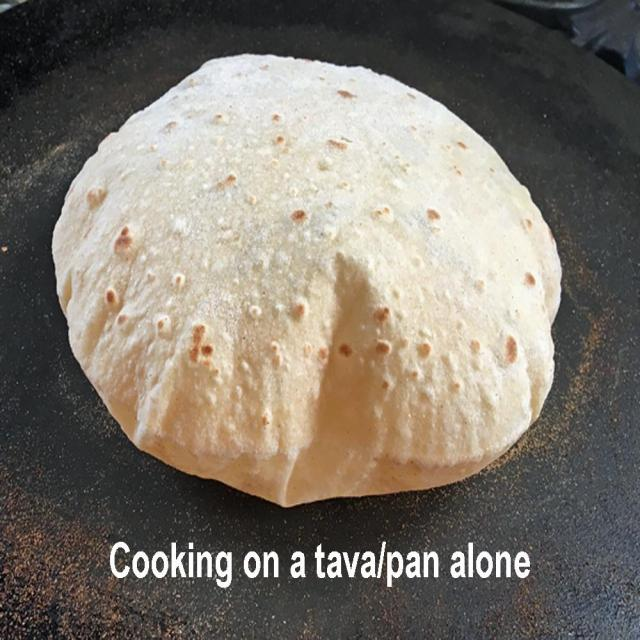ROTI: (51, 54, 563, 505)
